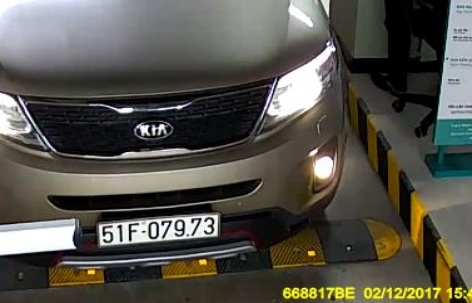plate: (97, 214, 219, 246)
